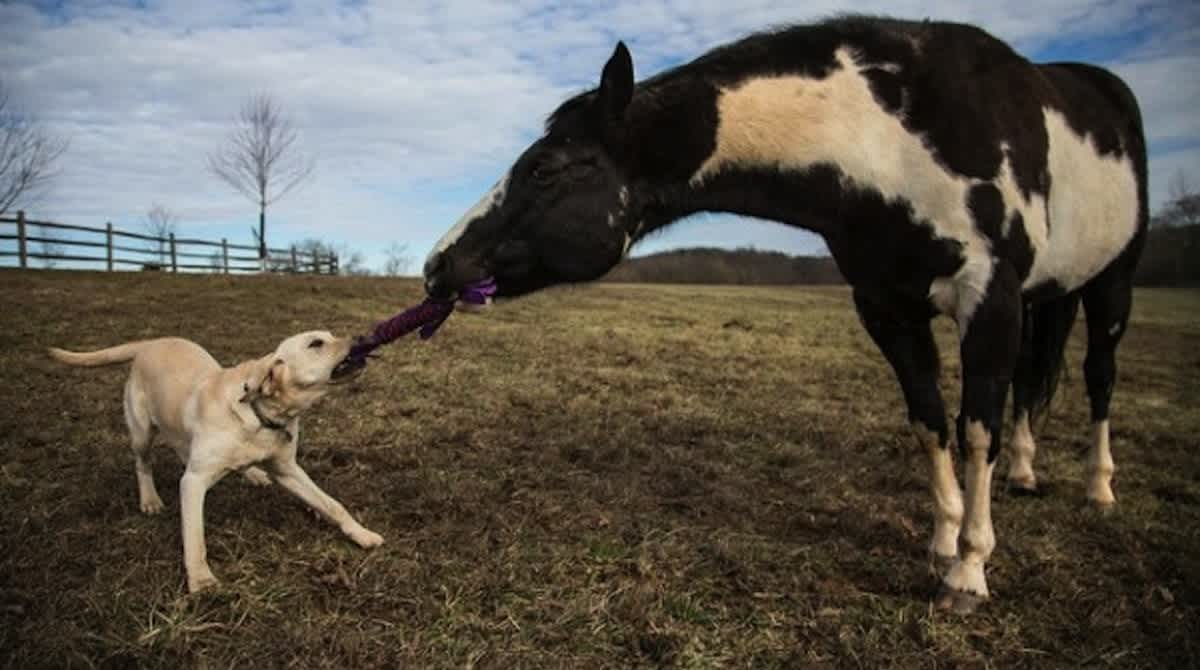Dog: (37, 280, 385, 599)
Horse: (392, 15, 1161, 570)
